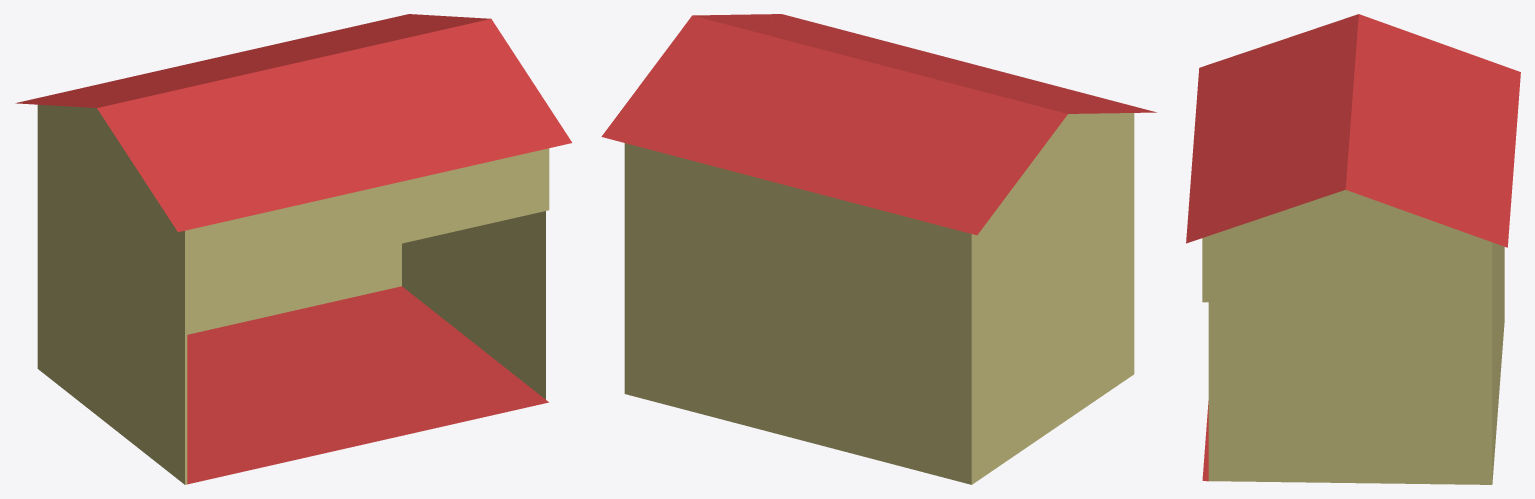
3 renders of one model, left to right at view 1: azimuth 30°, elevation 25°; view 2: azimuth 150°, elevation 25°; view 3: azimuth 270°, elevation 25°, orthographic. The views are drawn at different scales.
Size of the model in its own units: 13.38 by 10.52 by 10.4.
